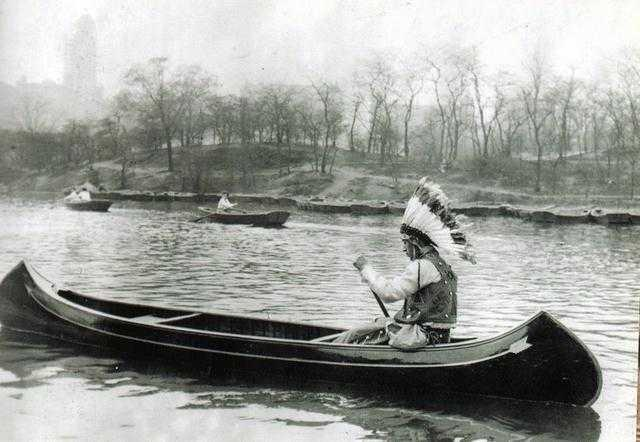kayak: (3, 262, 601, 401), (203, 210, 287, 227), (63, 198, 113, 212), (350, 202, 390, 213)
